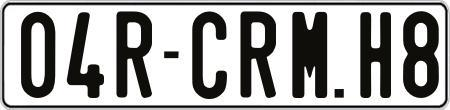0: (20, 10, 55, 100)
4: (64, 9, 103, 98)
8: (401, 9, 431, 98)
C: (189, 11, 225, 101)
H: (360, 10, 394, 98)
M: (290, 11, 325, 99)
R: (114, 10, 155, 102), (240, 8, 275, 97)
